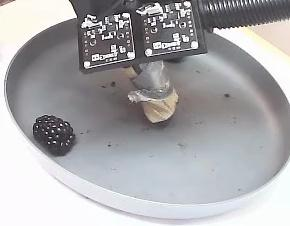berry: (33, 115, 75, 155)
